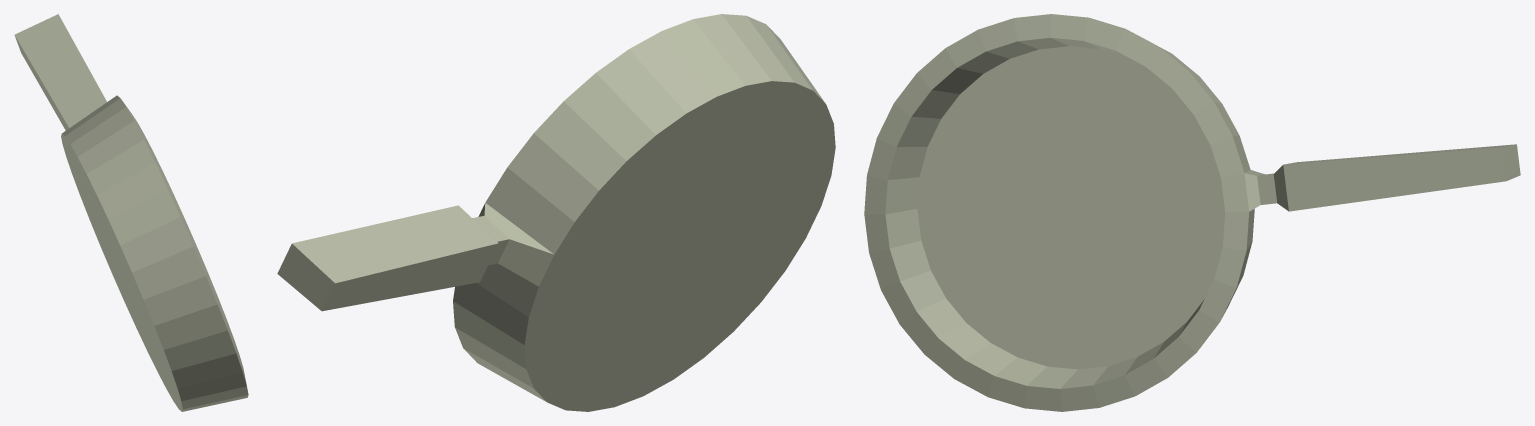
The model's file is Gobbling_pan.fbx.
3 renders of one model, left to right at view 1: azimuth 30°, elevation 25°; view 2: azimuth 150°, elevation 25°; view 3: azimuth 270°, elevation 25°, orthographic. The views are drawn at different scales.
Parts seen in each view (by area): view 1: Cylinder; view 2: Cylinder; view 3: Cylinder.
Boxes of the visible parts, left/top/right/bottom form: Cylinder: left=14, top=14, right=248, bottom=411; Cylinder: left=277, top=14, right=835, bottom=411; Cylinder: left=864, top=14, right=1520, bottom=411.
Bounding box in the file's own units: 34.2 × 53.57 × 90.83.
